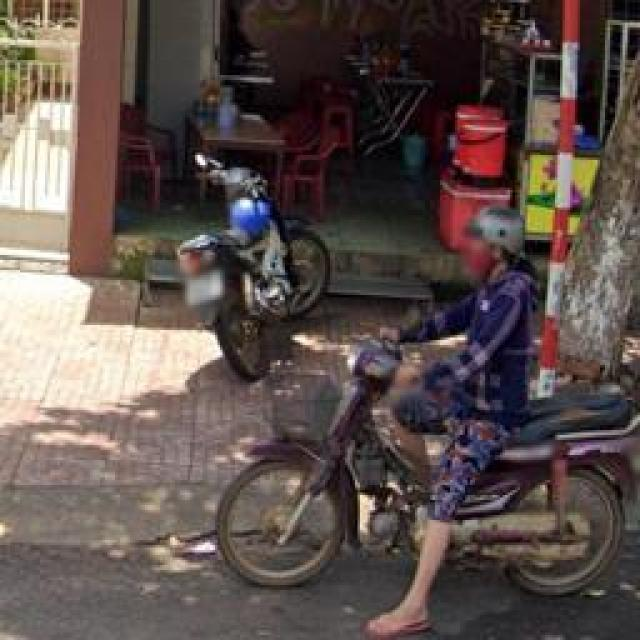Motor: (212, 335, 435, 588), (178, 152, 330, 380)
